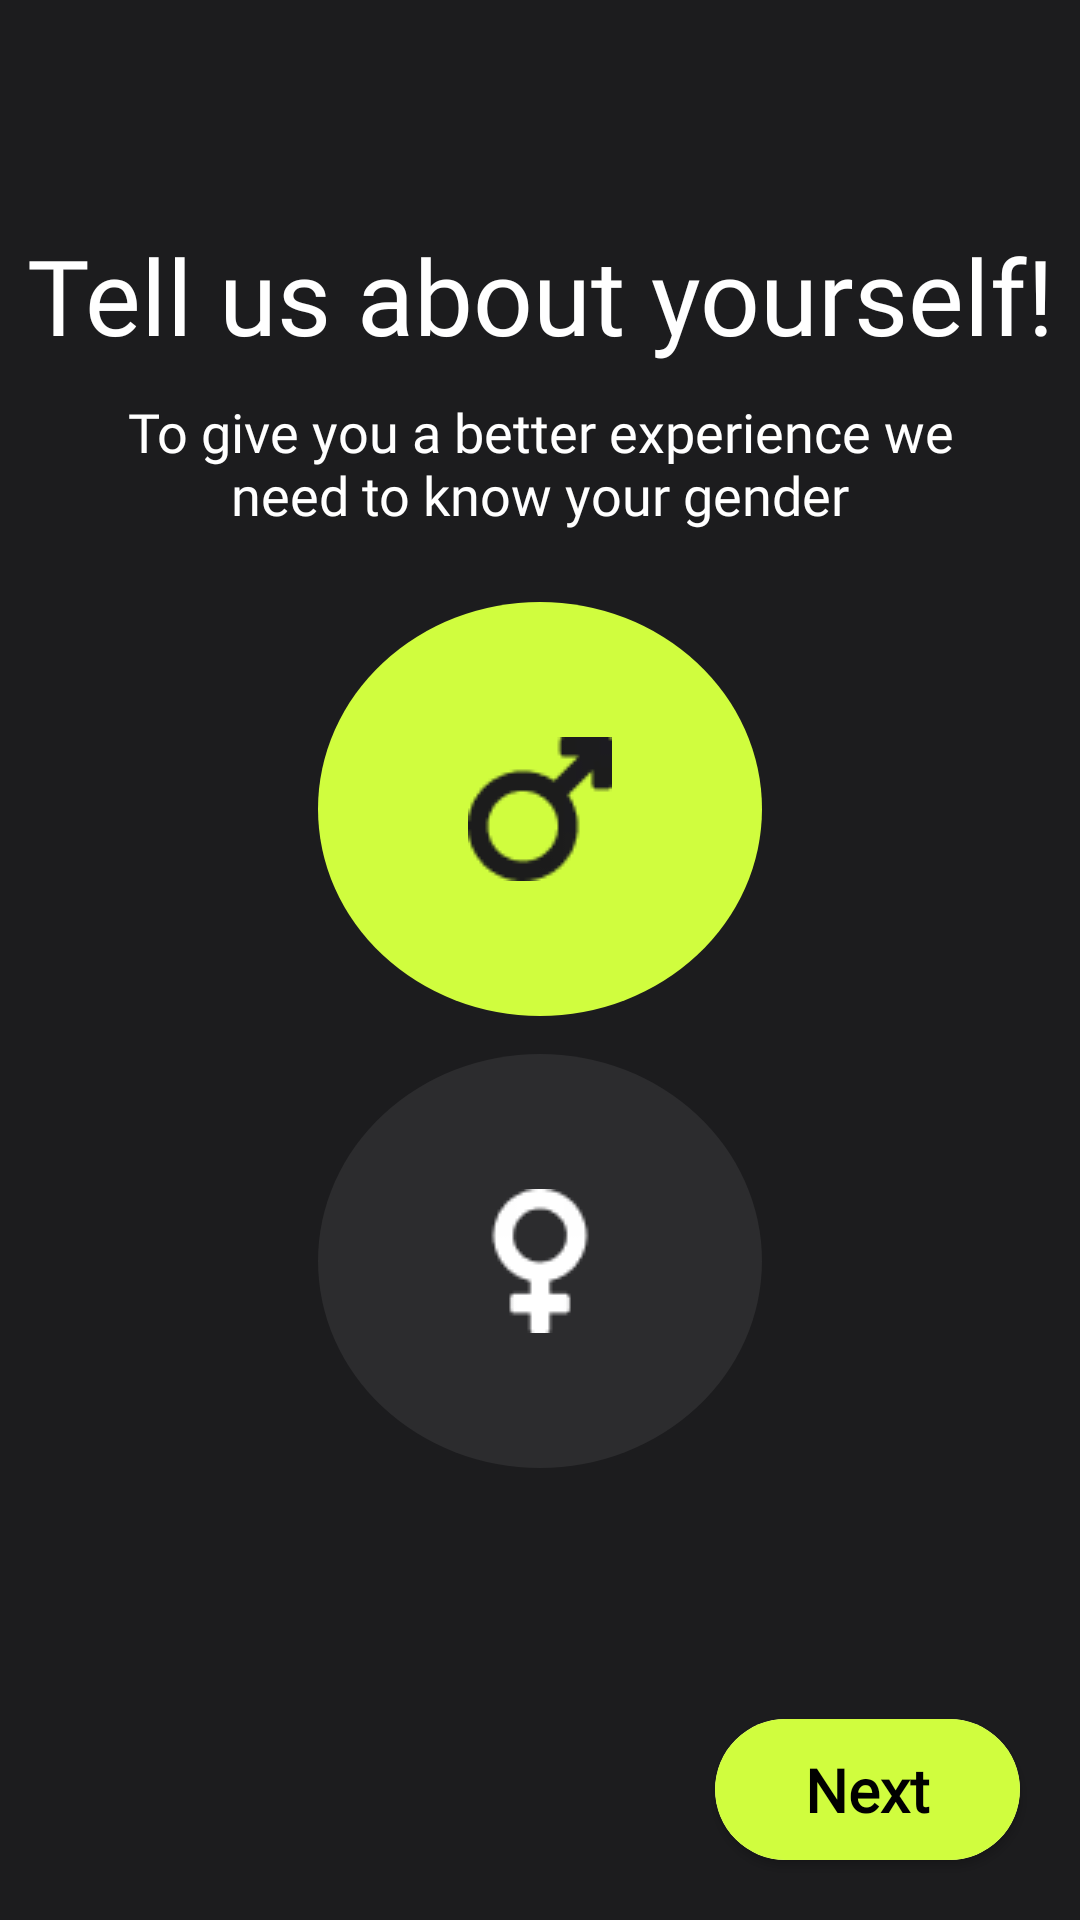

Icons on this 1080x1920 Android screen, each with its box as rect(x1, y1, x2, y2):
female gender: rect(491, 1189, 589, 1333)
male gender: rect(468, 737, 612, 881)
